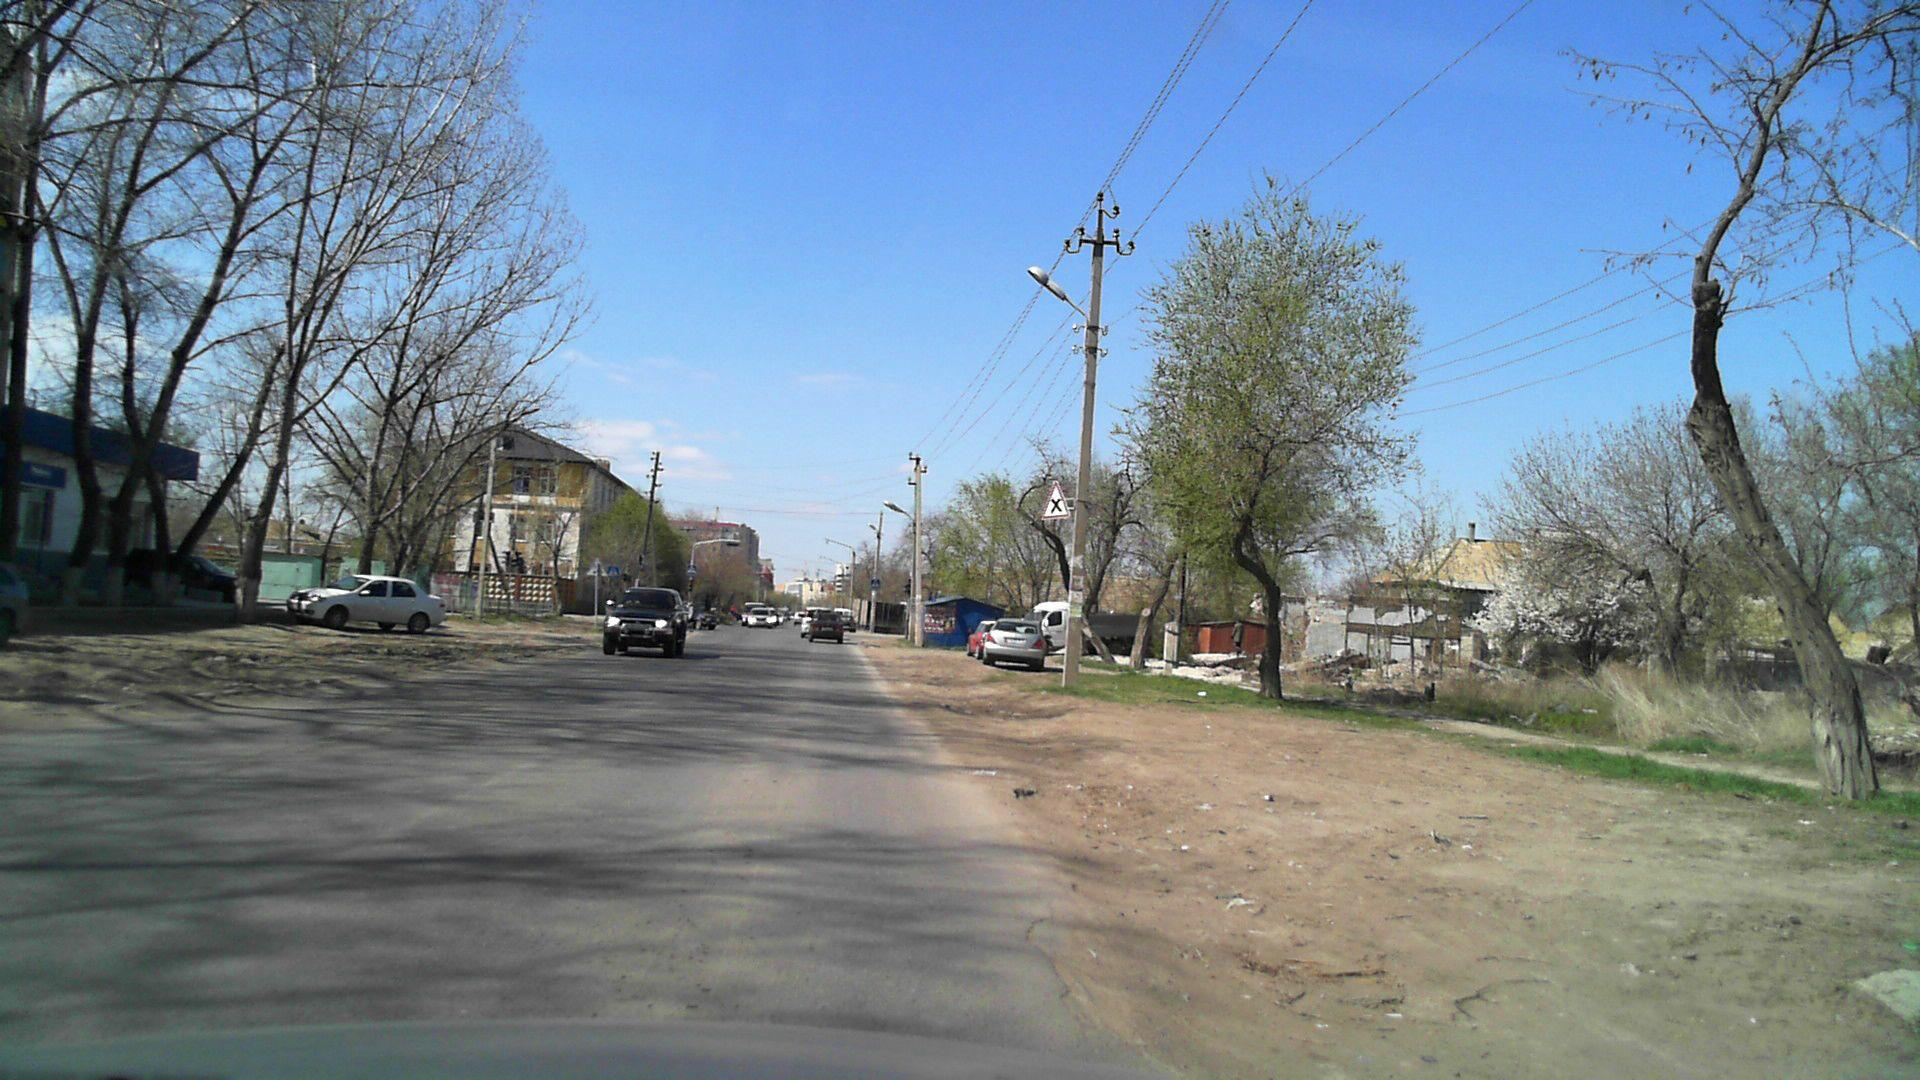1_6: (1040, 479, 1071, 520)
5_19_1: (872, 579, 881, 588)
5_19_2: (607, 566, 618, 579), (687, 563, 696, 576)
